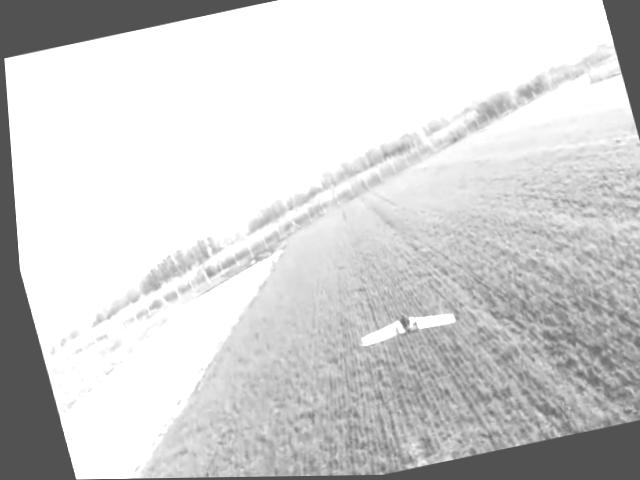hedef: (337, 301, 462, 360)
